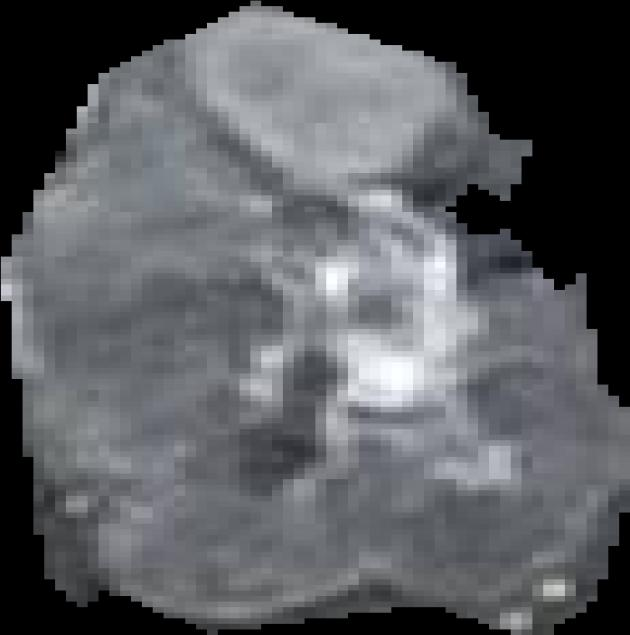tumor_moderate_chance: (1, 1, 630, 635)
